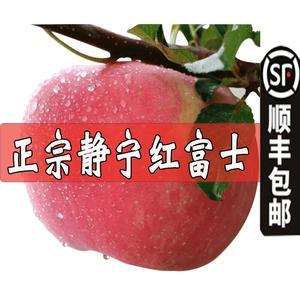apple: (20, 56, 257, 274)
